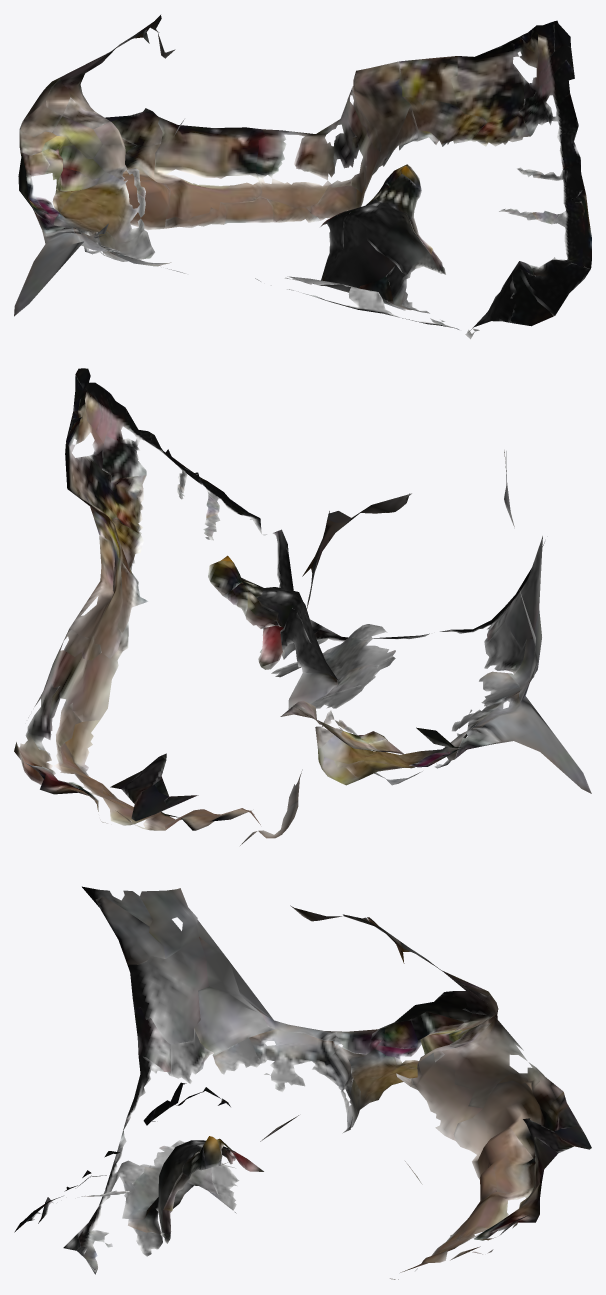
Rendered from hall.glb.
3 views of the same model, one above another, from view 1: azimuth 30°, elevation 25°; view 2: azimuth 150°, elevation 25°; view 3: azimuth 270°, elevation 25° (orthographic). The views are drawn at different scales.
Bounding box in the file's own units: 0.9244 × 0.4723 × 0.9103.
1 material, 1 textured.
